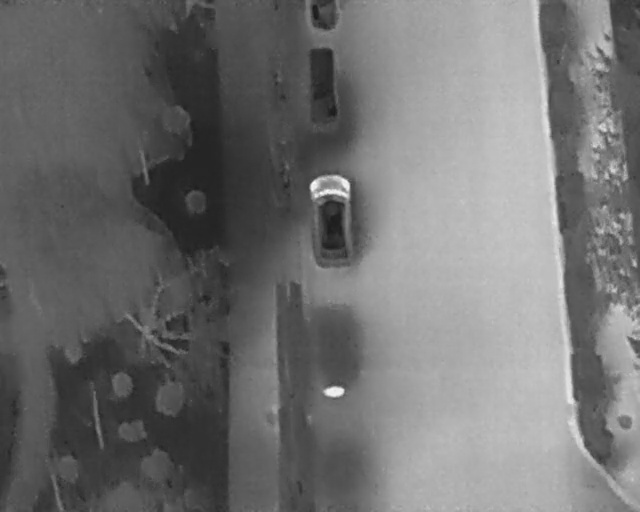Car: (306, 174, 358, 269), (306, 46, 342, 124), (308, 0, 340, 32)
